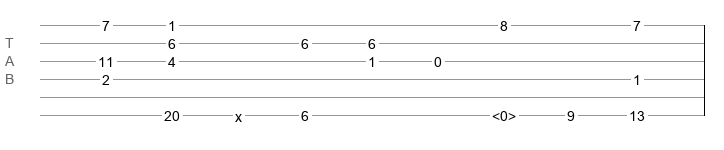0: (434, 54, 442, 64)
1: (168, 18, 176, 28), (368, 54, 376, 64), (633, 72, 641, 82)
11: (98, 54, 114, 64)
13: (629, 108, 645, 118)
2: (102, 72, 110, 82)
20: (164, 108, 180, 118)
4: (168, 54, 176, 64)
6: (168, 36, 176, 46), (301, 108, 309, 118), (301, 36, 309, 46), (368, 36, 376, 46)
7: (102, 18, 110, 28), (633, 18, 641, 28)
8: (500, 18, 508, 28)
9: (567, 108, 575, 118)
harmonic: (492, 108, 516, 118)
x: (235, 109, 242, 117)
